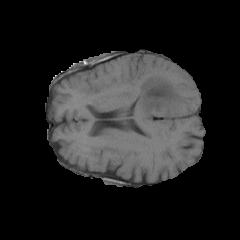glioma: (134, 76, 186, 120)
